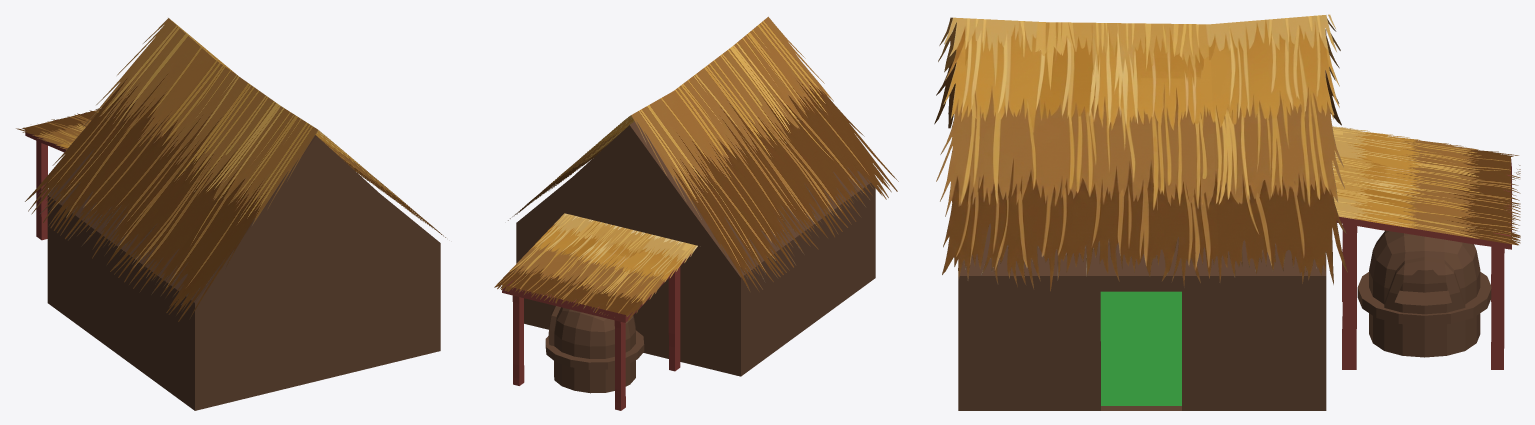
File: Cochero_House2.fbx
3 renders of one model, left to right at view 1: azimuth 30°, elevation 25°; view 2: azimuth 150°, elevation 25°; view 3: azimuth 270°, elevation 25°, orthographic. The views are drawn at different scales.
Parts seen in each view (by area): view 1: Plane; view 2: Plane; view 3: Plane.
Boxes of the visible parts, x1=… form: Plane: x1=16, y1=18, x2=445, y2=410; Plane: x1=494, y1=16, x2=898, y2=410; Plane: x1=934, y1=14, x2=1520, y2=410.
Bounding box in the file's own units: 2782 × 2443 × 4059.
